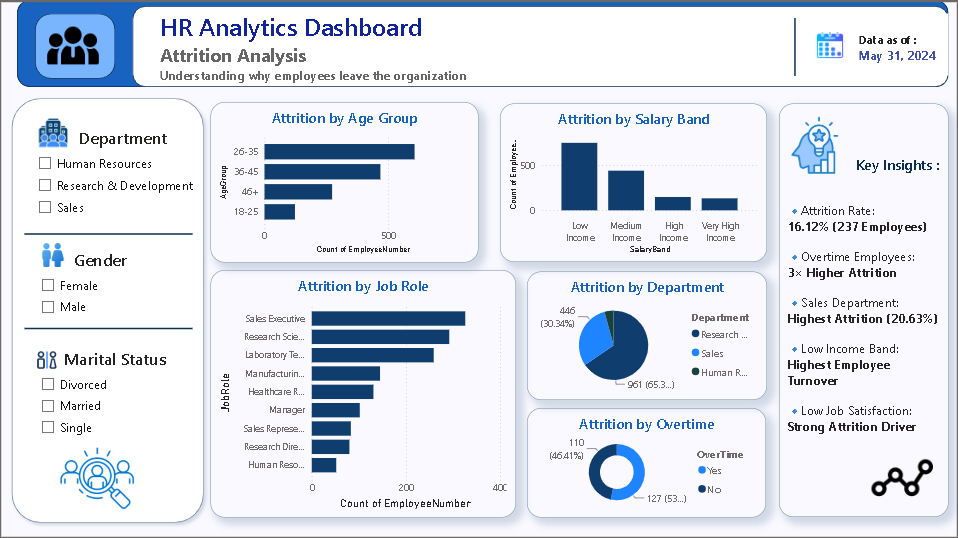

Layout of this report page (visuals, bound fields, positions):
{"tool":"powerbi","page":{"name":"Attrition Analysis","canvas":[1280,720],"ordinal":1},"visuals":[{"type":"shape","box":[8,122,274,584],"z":0},{"type":"shape","box":[24,0,1242,116],"z":1000},{"type":"shape","box":[178,8,1088,108],"z":2000},{"type":"slicer","title":"Department","fields":{"Values":["HR_Analytics_Cleaned.Department"]},"box":[40,168,250,172],"z":3000},{"type":"slicer","title":"Gender","fields":{"Values":["HR_Analytics_Cleaned.Gender"]},"box":[44,330,182,116],"z":4000},{"type":"textbox","box":[210,7.8,852.2,107.8],"z":5000},{"type":"shape","box":[48.6,18.6,107.1,87.1],"z":6000},{"type":"image","box":[48.9,24.4,101.1,73.3],"z":7000},{"type":"shape","box":[1022.9,24.3,78.6,77.1],"z":8000},{"type":"textbox","box":[1141.4,18.6,124.3,82.9],"z":9000},{"type":"image","box":[1088,38,40,44],"z":10000},{"type":"shape","box":[33,274,224,76],"z":11000},{"type":"image","box":[40,155,64,42],"z":12000},{"type":"image","box":[56,320,32,40],"z":13000},{"type":"image","box":[55.6,586.7,150,103.3],"z":14000},{"type":"textbox","box":[1040,138.6,225.7,551.4],"z":15000},{"type":"image","box":[1044.3,135.7,87.1,115.7],"z":16000},{"type":"shape","box":[33,400,224,76],"z":17000},{"type":"slicer","title":"Marital Status","fields":{"Values":["HR_Analytics_Cleaned.MaritalStatus"]},"box":[43.3,461.1,183.3,126.7],"z":18000},{"type":"clusteredBarChart","title":"Attrition by Age Group","fields":{"Category":["HR_Analytics_Cleaned.AgeGroup"],"Y":["CountNonNull(HR_Analytics_Cleaned.EmployeeNumber)"]},"box":[282.9,135.7,357.1,214.3],"z":19000},{"type":"clusteredColumnChart","title":"Attrition by Salary Band","fields":{"Category":["HR_Analytics_Cleaned.SalaryBand"],"Y":["CountNonNull(HR_Analytics_Cleaned.EmployeeNumber)"]},"box":[668.6,138.6,355.7,211.4],"z":20000},{"type":"donutChart","title":"Attrition by Overtime","fields":{"Category":["HR_Analytics_Cleaned.OverTime"],"Y":["HR_Analytics_Cleaned.Attrition Count"]},"box":[704.3,544.3,318.6,145.7],"z":21000},{"type":"pieChart","title":"Attrition by Department","fields":{"Category":["HR_Analytics_Cleaned.Department"],"Y":["CountNonNull(HR_Analytics_Cleaned.EmployeeNumber)"]},"box":[704.3,362.9,320,171.4],"z":22000},{"type":"clusteredBarChart","title":"Attrition by Job Role","fields":{"Category":["HR_Analytics_Cleaned.JobRole"],"Y":["CountNonNull(HR_Analytics_Cleaned.EmployeeNumber)"]},"box":[282.9,360,407.1,330],"z":23000},{"type":"image","box":[48,462,32,36],"z":24000},{"type":"image","box":[1162,596,84,82],"z":25000},{"type":"actionButton","box":[0,0,1280,720],"z":25001}]}

Visuals, with their boxes in screenshot pixels (x1, y1, x2, y2), scaled from the page's 1280x720 canvas onto the 958x538 screenshot:
shape: crop(6, 91, 211, 528)
shape: crop(18, 0, 948, 87)
shape: crop(133, 6, 948, 87)
"Department" slicer: crop(30, 126, 217, 254)
"Gender" slicer: crop(33, 247, 169, 333)
textbox: crop(157, 6, 795, 86)
shape: crop(36, 14, 117, 79)
image: crop(37, 18, 112, 73)
shape: crop(766, 18, 824, 76)
textbox: crop(854, 14, 947, 76)
image: crop(814, 28, 844, 61)
shape: crop(25, 205, 192, 262)
image: crop(30, 116, 78, 147)
image: crop(42, 239, 66, 269)
image: crop(42, 438, 154, 516)
textbox: crop(778, 104, 947, 516)
image: crop(782, 101, 847, 188)
shape: crop(25, 299, 192, 356)
"Marital Status" slicer: crop(32, 345, 170, 439)
"Attrition by Age Group" clusteredBarChart: crop(212, 101, 479, 262)
"Attrition by Salary Band" clusteredColumnChart: crop(500, 104, 767, 262)
"Attrition by Overtime" donutChart: crop(527, 407, 766, 516)
"Attrition by Department" pieChart: crop(527, 271, 767, 399)
"Attrition by Job Role" clusteredBarChart: crop(212, 269, 516, 516)
image: crop(36, 345, 60, 372)
image: crop(870, 445, 933, 507)
actionButton: crop(0, 0, 957, 537)
